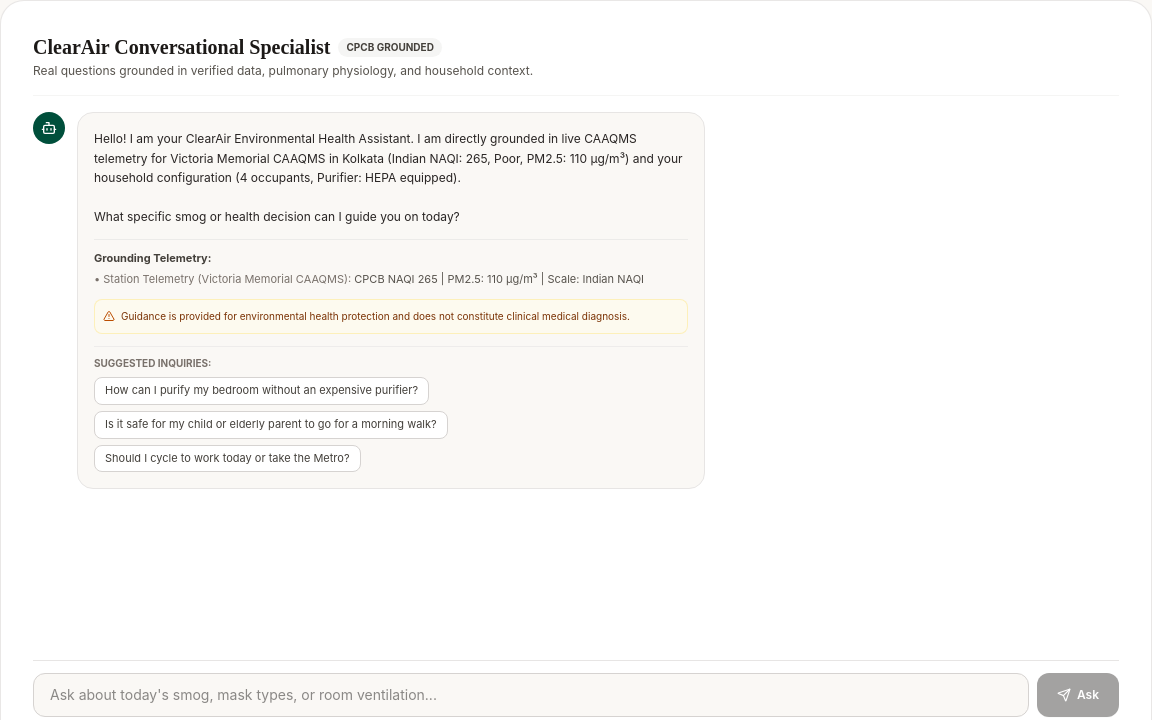
Scenario: ConversationalAssistant Component › renders grounded welcome message with aria-live region and sends a user question
Check: the heading "ClearAir Conversational Specialist" is shown, box [33,33,330,61]
Type "Should I open my windows?" into the field.
click(531, 695); type("Should I open my windows?")  # box [33,673,1029,717]
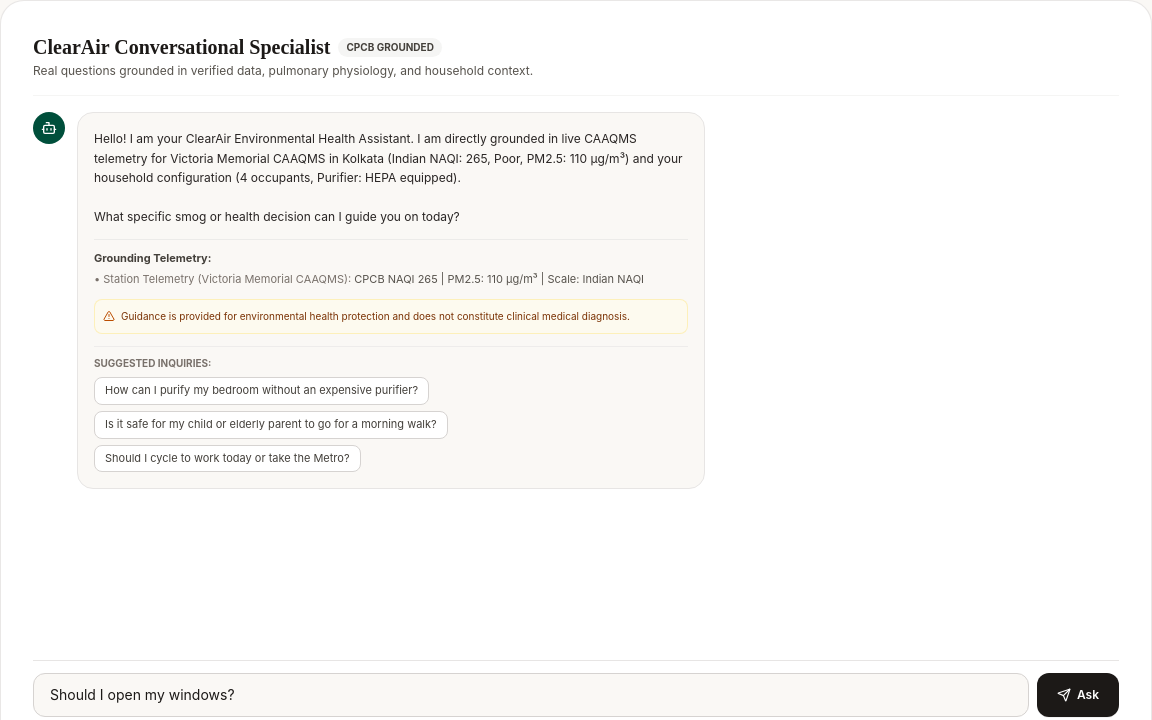
Submit the form, box [33,660,1119,717]
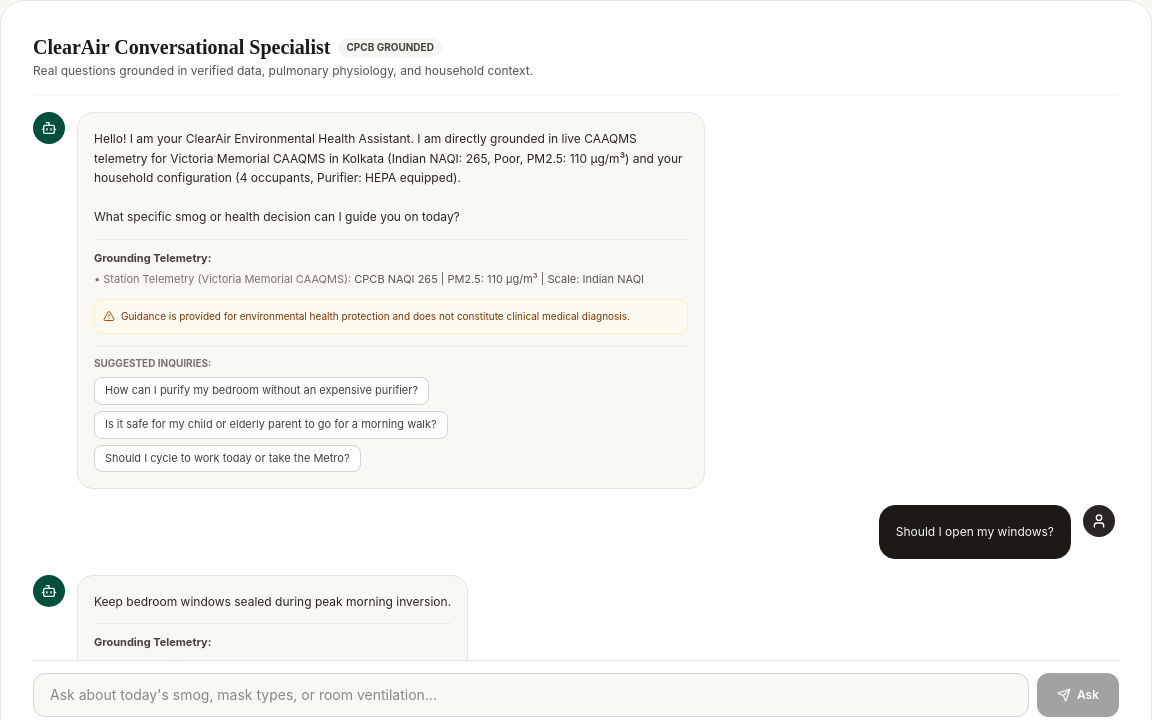
Check: the text "Keep bedroom windows sealed during peak morning inversion." is shown, box [94,592,451,611]
